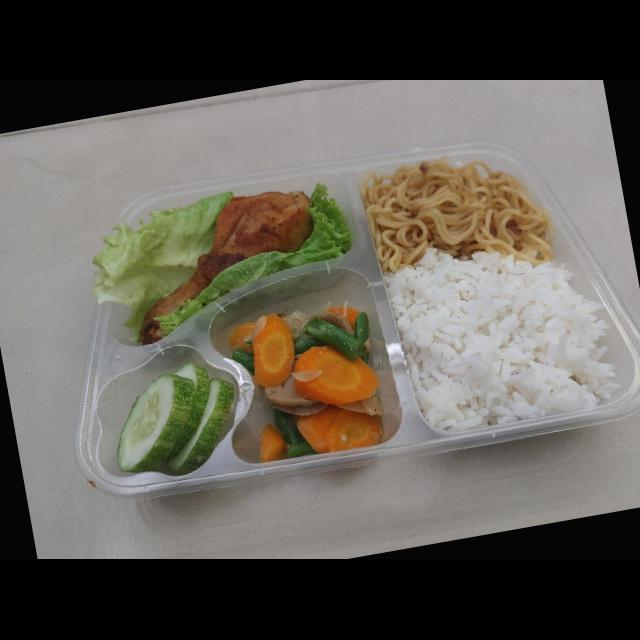bento: (64, 125, 640, 532)
